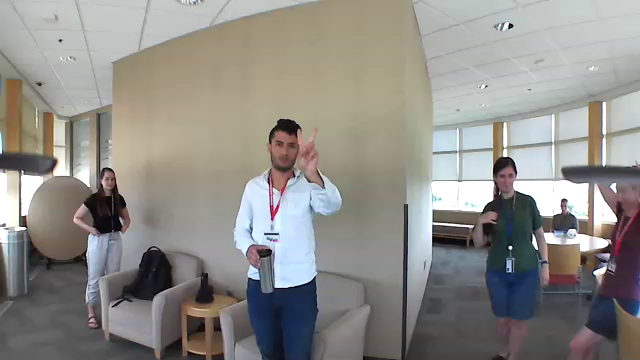peace: (289, 123, 323, 178)
